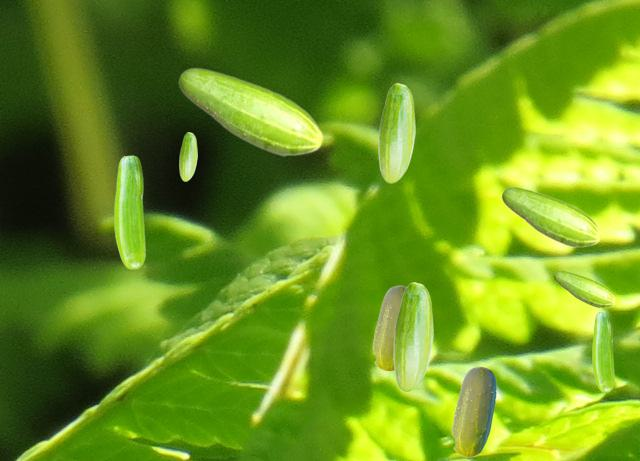cucumber: (178, 67, 323, 156), (501, 186, 601, 247), (393, 282, 432, 390), (451, 366, 495, 456), (378, 83, 414, 182), (114, 155, 144, 268), (372, 285, 406, 370), (553, 270, 615, 307), (592, 311, 613, 391), (179, 132, 196, 180)
